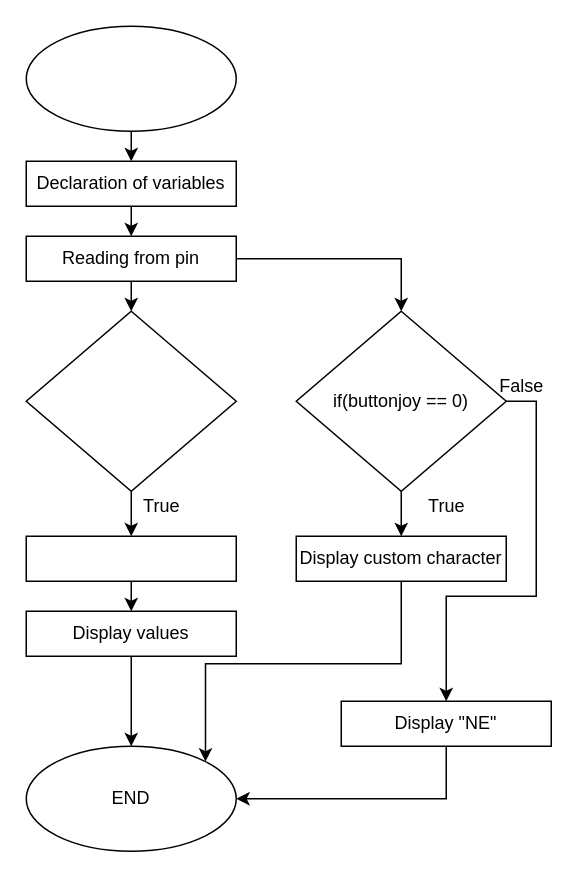
Some shapes in this 585 by 878 pixel diagram are drawn without their labels. The shapes that lost their labels are listed below. From the top down, each one's centre as x and y in pixels, then its label:
At pixel 130 78: "ISR(TIMER1_OVF_vect)".
At pixel 130 400: "if(button == 0)".
At pixel 130 558: "Counter reset".
